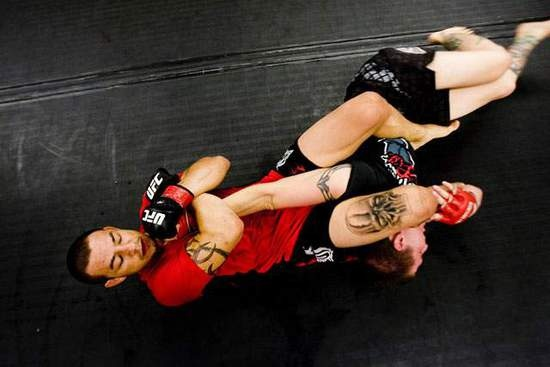falling: (57, 9, 485, 286)
